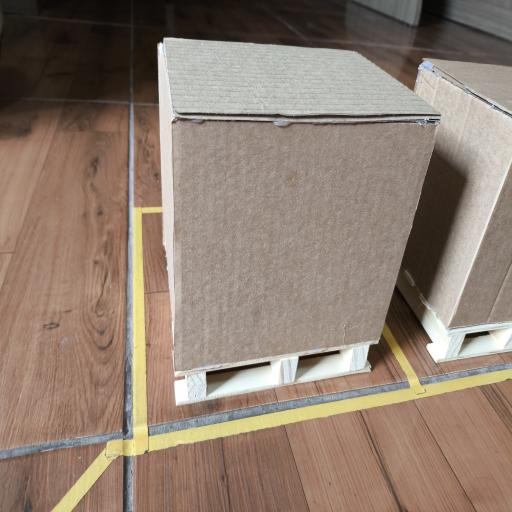pallet: (175, 343, 371, 404), (397, 267, 511, 362)
